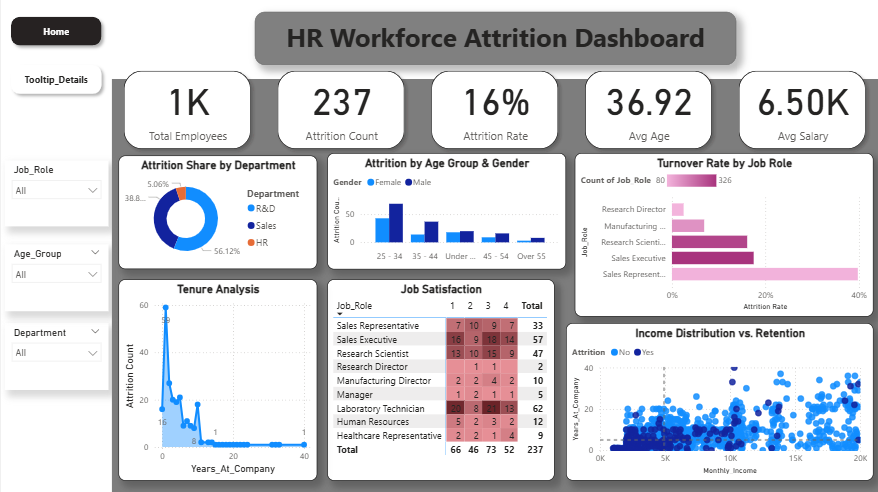

This screenshot's page, from the dashboard's own definition file:
{"tool":"powerbi","page":{"name":"Home","canvas":[1280,720],"ordinal":0},"visuals":[{"type":"shape","box":[0,96.1,161.9,624.4],"z":0},{"type":"slicer","fields":{"Values":["v_HR_Dashboard_Source.Department"]},"box":[5.5,473.4,150.9,97.4],"z":2000},{"type":"slicer","fields":{"Values":["v_HR_Dashboard_Source.Job_Role"]},"box":[5.5,237.4,150.9,96.1],"z":3000},{"type":"slicer","fields":{"Values":["v_HR_Dashboard_Source.Age_Group"]},"box":[5.5,359.5,150.9,97.4],"z":4000},{"type":"donutChart","title":"Attrition Share by Department","fields":{"Category":["v_HR_Dashboard_Source.Department"],"Y":["Measures (2).Attrition Count"]},"box":[171.2,229.5,289.6,165.7],"z":5000},{"type":"clusteredColumnChart","title":"Attrition by Age Group & Gender","fields":{"Category":["HR Data.Age_Group"],"Y":["Measures (2).Attrition Count"],"Series":["HR Data.Gender"]},"box":[474.4,225.8,347.9,169.4],"z":6000},{"type":"clusteredBarChart","title":"Turnover Rate by Job Role","fields":{"Category":["HR Data.Job_Role"],"Y":["Measures (2).Attrition Rate"]},"box":[836,225.8,435.3,238.6],"z":7000},{"type":"scatterChart","title":"Income Distribution vs. Retention","fields":{"Y":["HR Data.Years_At_Company"],"Series":["HR Data.Attrition"],"X":["HR Data.Monthly_Income"]},"box":[823.2,473.5,448,229.5],"z":8000},{"type":"pivotTable","title":"Job Satisfaction","fields":{"Rows":["HR Data.Job_Role"],"Columns":["HR Data.Job_Satisfaction"],"Values":["Measures (2).Attrition Count"]},"box":[475.4,409.8,331.5,293.2],"z":9000},{"type":"areaChart","title":"Tenure Analysis","fields":{"Category":["HR Data.Years_At_Company"],"Y":["Measures (2).Attrition Count"]},"box":[171.2,409.8,289.6,293.2],"z":10000},{"type":"shape","box":[0,0,1280.3,118],"z":11000},{"type":"textbox","box":[370.6,20.9,701.8,77.3],"z":12000},{"type":"cardVisual","fields":{"Data":["Measures (2).Total Employees","Measures (2).Attrition Count","Measures (2).Attrition Rate","Measures (2).Avg Age","Measures (2).Avg Salary"]},"box":[161.9,89.2,1118.4,148.2],"z":12500},{"type":"pageNavigator","box":[6.1,18.4,150.9,130.1],"z":12501}]}

Visuals, with their boxes on the page's 1280x720 design canvas (x1, y1, x2, y2). These are canvas units, not pixel positions in the 878x492 screenshot, which may show the page scaled, cropped or inside an application window:
shape: box(0, 96, 162, 720)
slicer - v_HR_Dashboard_Source.Department: box(6, 473, 156, 571)
slicer - v_HR_Dashboard_Source.Job_Role: box(6, 237, 156, 334)
slicer - v_HR_Dashboard_Source.Age_Group: box(6, 360, 156, 457)
"Attrition Share by Department" donutChart: box(171, 230, 461, 395)
"Attrition by Age Group & Gender" clusteredColumnChart: box(474, 226, 822, 395)
"Turnover Rate by Job Role" clusteredBarChart: box(836, 226, 1271, 464)
"Income Distribution vs. Retention" scatterChart: box(823, 474, 1271, 703)
"Job Satisfaction" pivotTable: box(475, 410, 807, 703)
"Tenure Analysis" areaChart: box(171, 410, 461, 703)
shape: box(0, 0, 1280, 118)
textbox: box(371, 21, 1072, 98)
cardVisual - Measures (2).Total Employees x Measures (2).Attrition Count: box(162, 89, 1280, 237)
pageNavigator: box(6, 18, 157, 148)
